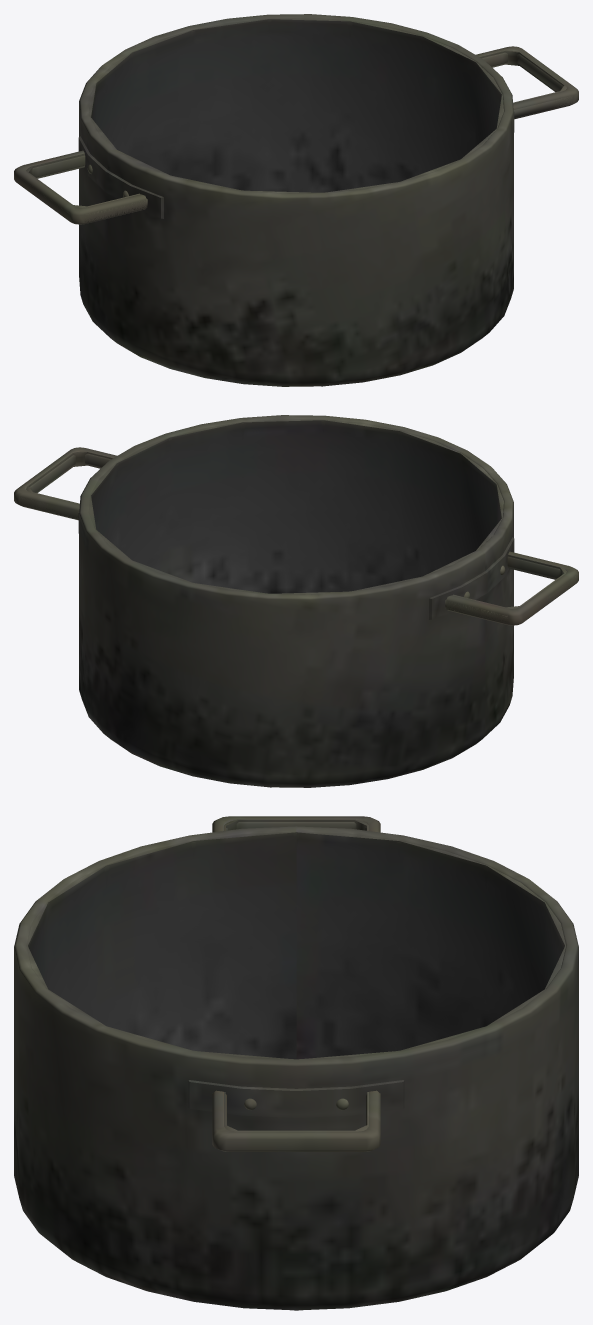
Rendered from CookingPot.glb.
The picture shows the model from 3 angles, top to bottom: view 1: azimuth 30°, elevation 25°; view 2: azimuth 150°, elevation 25°; view 3: azimuth 270°, elevation 25°; orthographic projection. The views are drawn at different scales.
Visible parts, largest first — view 1: CookingPot; view 2: CookingPot; view 3: CookingPot.
Part boxes in pixels (x1,y1,x2,y2): CookingPot: (14, 14, 578, 386); CookingPot: (14, 415, 578, 787); CookingPot: (14, 816, 578, 1310).
Size of the model in its own units: 0.5604 by 0.2076 by 0.4164.
Materials: 1 (1 with a texture image).
